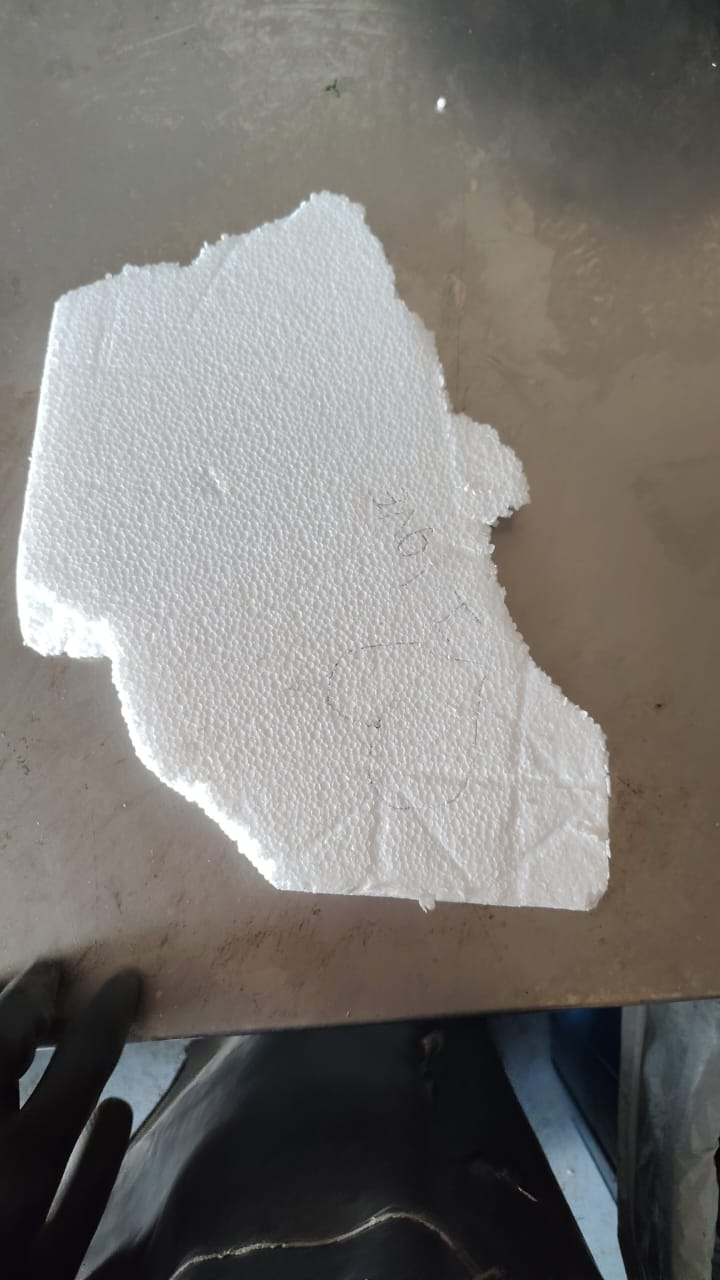Ordinario: (18, 186, 623, 912)
